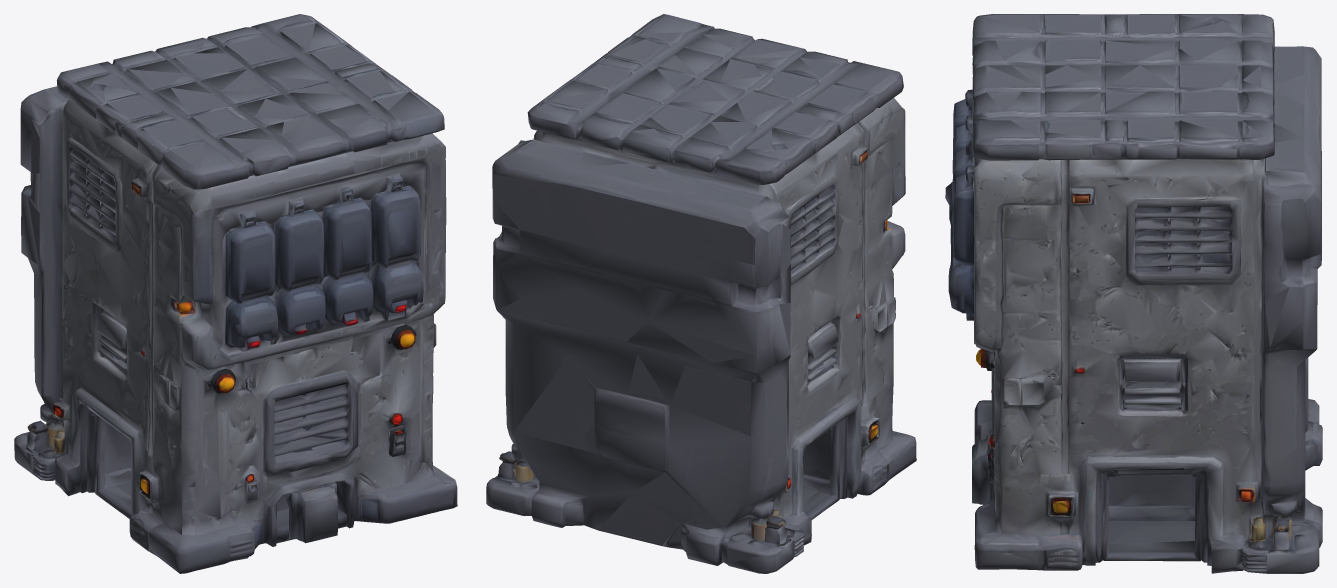
File: bld_kuro_substation.fbx
The picture shows the model from 3 angles, left to right: view 1: azimuth 30°, elevation 25°; view 2: azimuth 150°, elevation 25°; view 3: azimuth 270°, elevation 25°; orthographic projection. The views are drawn at different scales.
Parts seen in each view (by area): view 1: bld_kuro_substation_LOD0; view 2: bld_kuro_substation_LOD0; view 3: bld_kuro_substation_LOD0.
Part boxes in pixels (box(x1,y1,x2,y2)): bld_kuro_substation_LOD0: box(14, 14, 457, 573); bld_kuro_substation_LOD0: box(486, 14, 916, 573); bld_kuro_substation_LOD0: box(945, 14, 1322, 573).
Size of what is drawn, in the model's own units: 0.7703 by 0.9814 by 0.7887.
